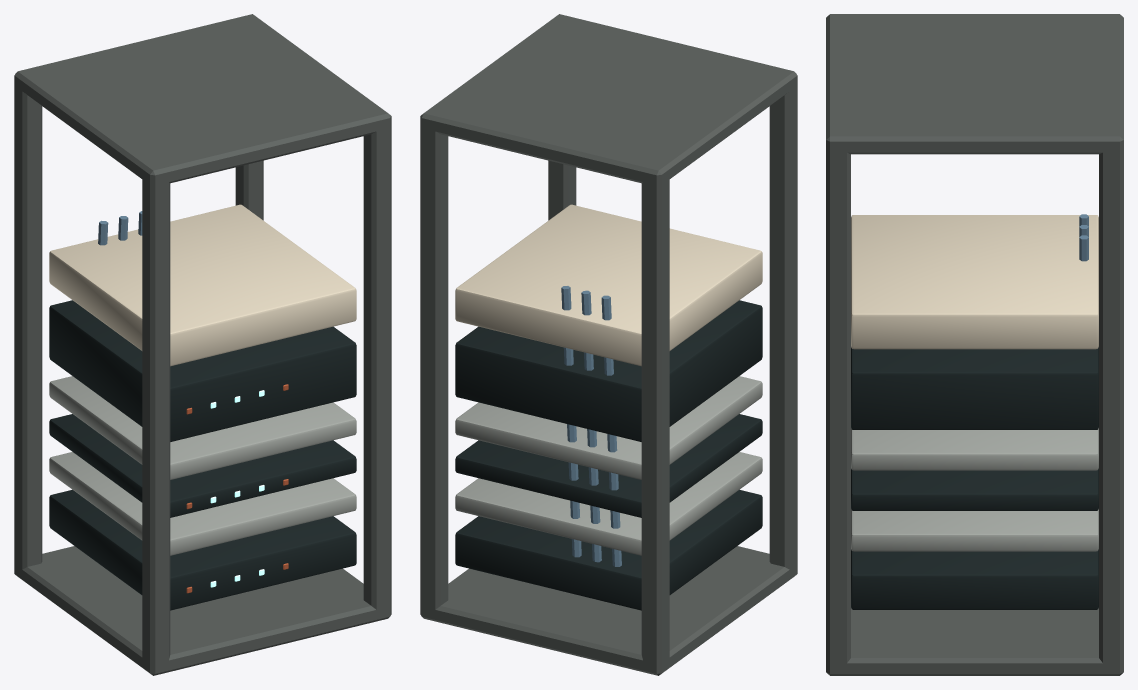
Rendered from lab_rack_open.glb.
The picture shows the model from 3 angles, left to right: view 1: azimuth 30°, elevation 25°; view 2: azimuth 150°, elevation 25°; view 3: azimuth 270°, elevation 25°; orthographic projection. The views are drawn at different scales.
Visible parts, largest first — view 1: FURN-lab_rack_open; view 2: FURN-lab_rack_open; view 3: FURN-lab_rack_open.
Boxes of the visible parts, x1,y1,x2,y2 form: FURN-lab_rack_open: [14, 14, 391, 675]; FURN-lab_rack_open: [420, 14, 797, 675]; FURN-lab_rack_open: [826, 14, 1123, 675].
Bounding box in the file's own units: 0.6 × 1.2 × 0.6.
